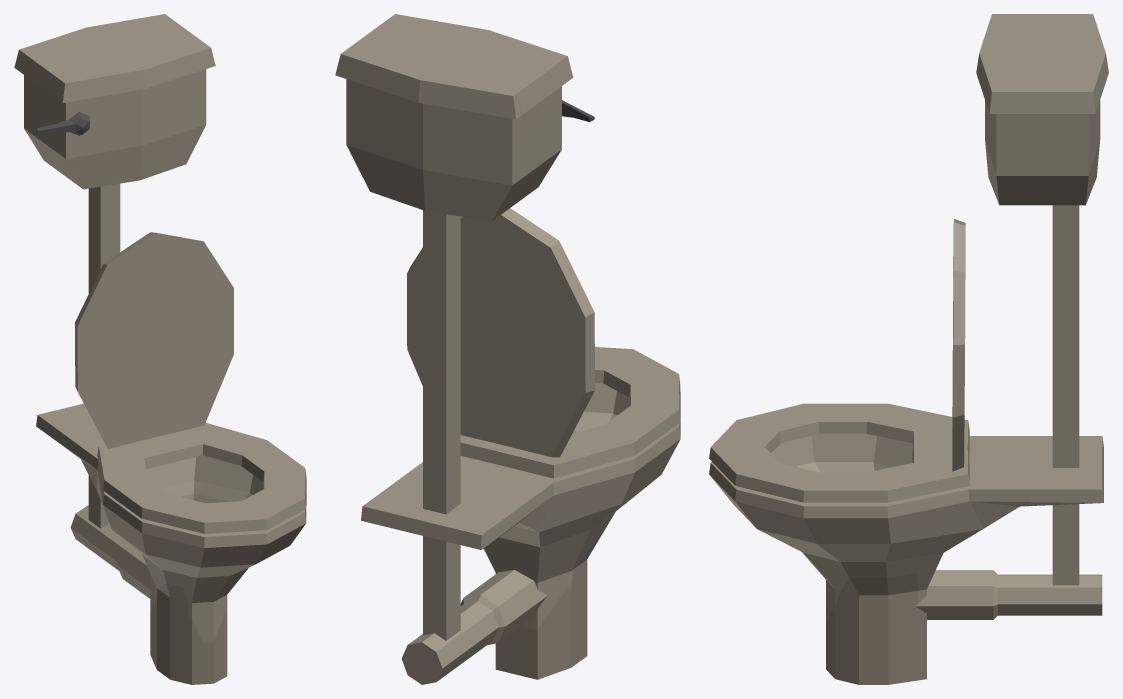
Rendered from SM_Prop_Toilet_01.fbx.
3 renders of one model, left to right at view 1: azimuth 30°, elevation 25°; view 2: azimuth 150°, elevation 25°; view 3: azimuth 270°, elevation 25°, orthographic. The views are drawn at different scales.
Visible parts, largest first — view 1: SM_Prop_Toilet_01, SM_Prop_Toilet_01_Lid, SM_Prop_Toilet_01_Seat; view 2: SM_Prop_Toilet_01, SM_Prop_Toilet_01_Lid, SM_Prop_Toilet_01_Seat; view 3: SM_Prop_Toilet_01, SM_Prop_Toilet_01_Seat, SM_Prop_Toilet_01_Lid.
Boxes of the visible parts, bbox=[...] form: SM_Prop_Toilet_01: bbox=[14, 14, 306, 684]; SM_Prop_Toilet_01_Lid: bbox=[75, 232, 233, 448]; SM_Prop_Toilet_01_Seat: bbox=[97, 423, 306, 533]; SM_Prop_Toilet_01: bbox=[335, 14, 680, 684]; SM_Prop_Toilet_01_Lid: bbox=[407, 208, 594, 457]; SM_Prop_Toilet_01_Seat: bbox=[460, 347, 680, 478]; SM_Prop_Toilet_01: bbox=[709, 14, 1108, 684]; SM_Prop_Toilet_01_Seat: bbox=[709, 403, 969, 502]; SM_Prop_Toilet_01_Lid: bbox=[952, 219, 965, 471].
Size of the model in its own units: 47.68 by 142 by 83.56.
